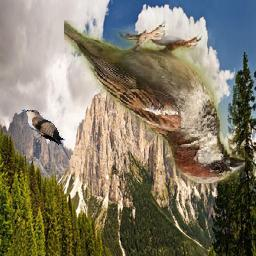Cuckoo: (22, 110, 71, 161)
Sparrow: (65, 20, 246, 184)
